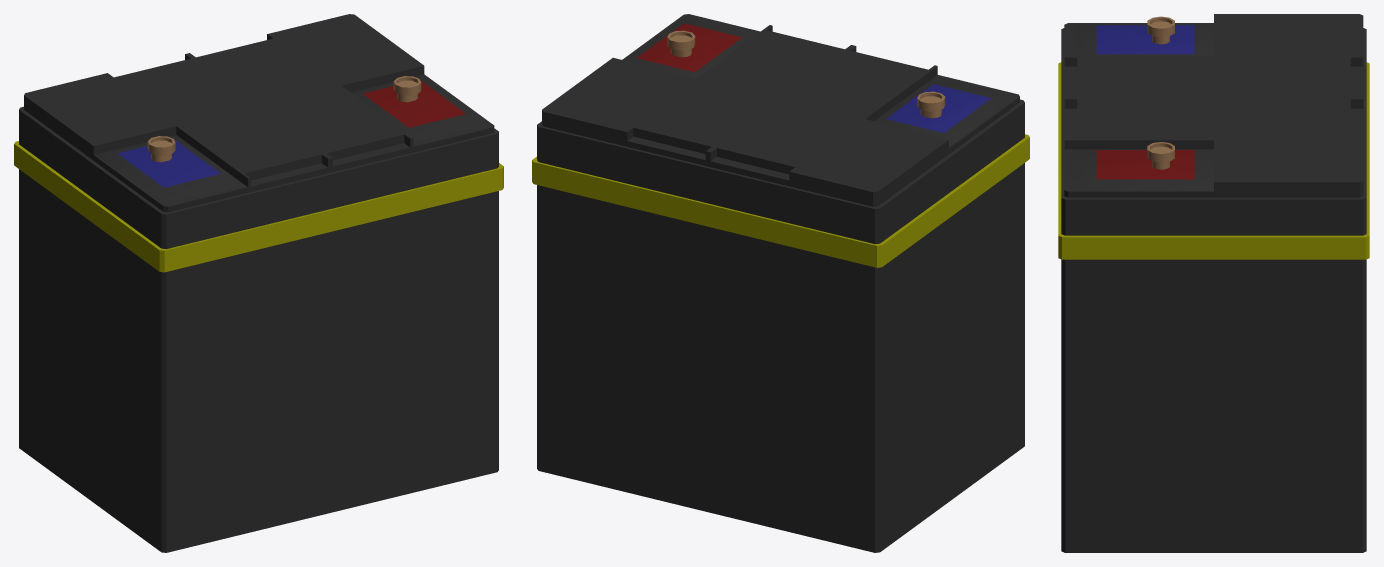
The model's file is Accu_Battery.fbx.
3 renders of one model, left to right at view 1: azimuth 30°, elevation 25°; view 2: azimuth 150°, elevation 25°; view 3: azimuth 270°, elevation 25°, orthographic. The views are drawn at different scales.
Parts seen in each view (by area): view 1: Accu_Battery; view 2: Accu_Battery; view 3: Accu_Battery.
Part boxes in pixels (x1,y1,x2,y2): Accu_Battery: [14, 14, 503, 552]; Accu_Battery: [532, 14, 1029, 552]; Accu_Battery: [1058, 14, 1369, 552].
Size of the model in its own units: 40.8 by 41.4 by 30.6.
